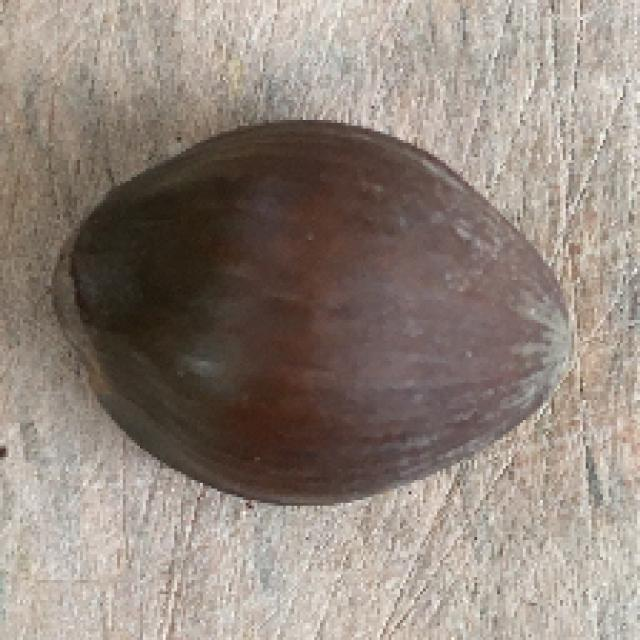damagedHazelnut: (38, 117, 576, 516)
